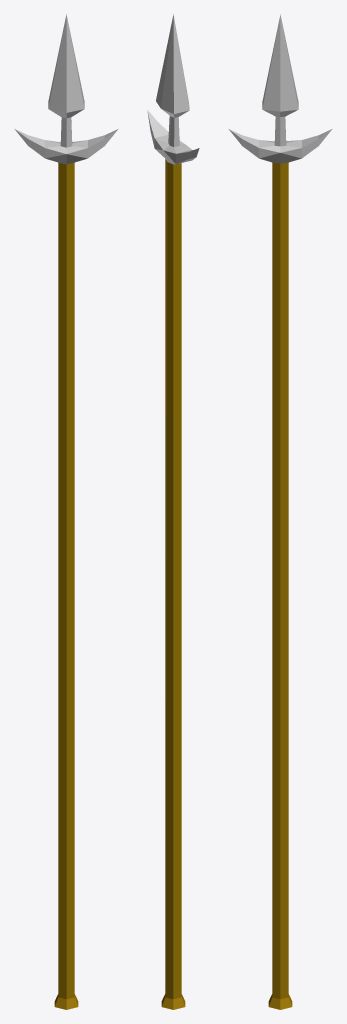
File: LP_Spear.fbx
3 renders of one model, left to right at view 1: azimuth 90°, elevation 25°; view 2: azimuth 210°, elevation 25°; view 3: azimuth 270°, elevation 25°, orthographic.
Visible parts, largest first — view 1: pCylinder1; view 2: pCylinder1; view 3: pCylinder1.
Boxes of the visible parts, box(x1,y1,x2,y2) form: pCylinder1: box(14, 14, 118, 1009); pCylinder1: box(147, 14, 199, 1009); pCylinder1: box(228, 14, 332, 1009).
Bounding box in the file's own units: 0.0608 × 2.06 × 0.1977.
